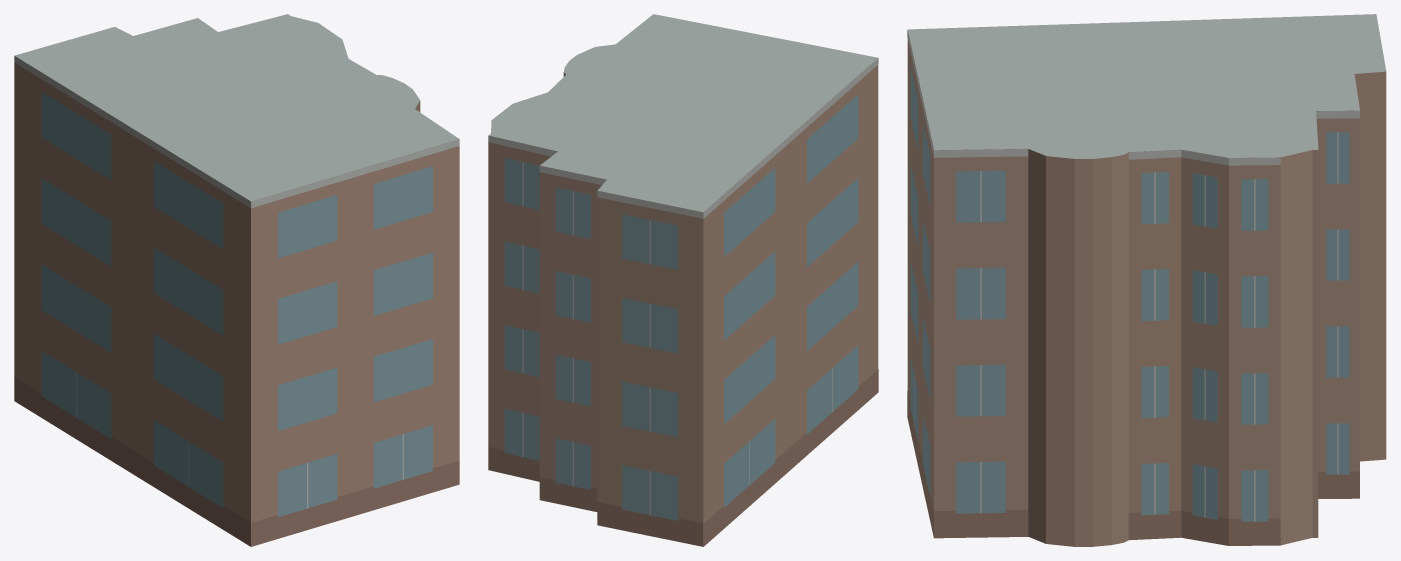
The model's file is survey-upis-32633377.glb.
3 views of the same model, side by side, from view 1: azimuth 30°, elevation 25°; view 2: azimuth 150°, elevation 25°; view 3: azimuth 270°, elevation 25° (orthographic). The views are drawn at different scales.
Visible parts, largest first — view 1: survey-upis-32633377.tmp; view 2: survey-upis-32633377.tmp; view 3: survey-upis-32633377.tmp.
Boxes of the visible parts, x1=… form: survey-upis-32633377.tmp: x1=14, y1=14, x2=459, y2=546; survey-upis-32633377.tmp: x1=488, y1=14, x2=878, y2=546; survey-upis-32633377.tmp: x1=907, y1=14, x2=1386, y2=546.
Size of the model in its own units: 9.94 by 12.4 by 13.88.
